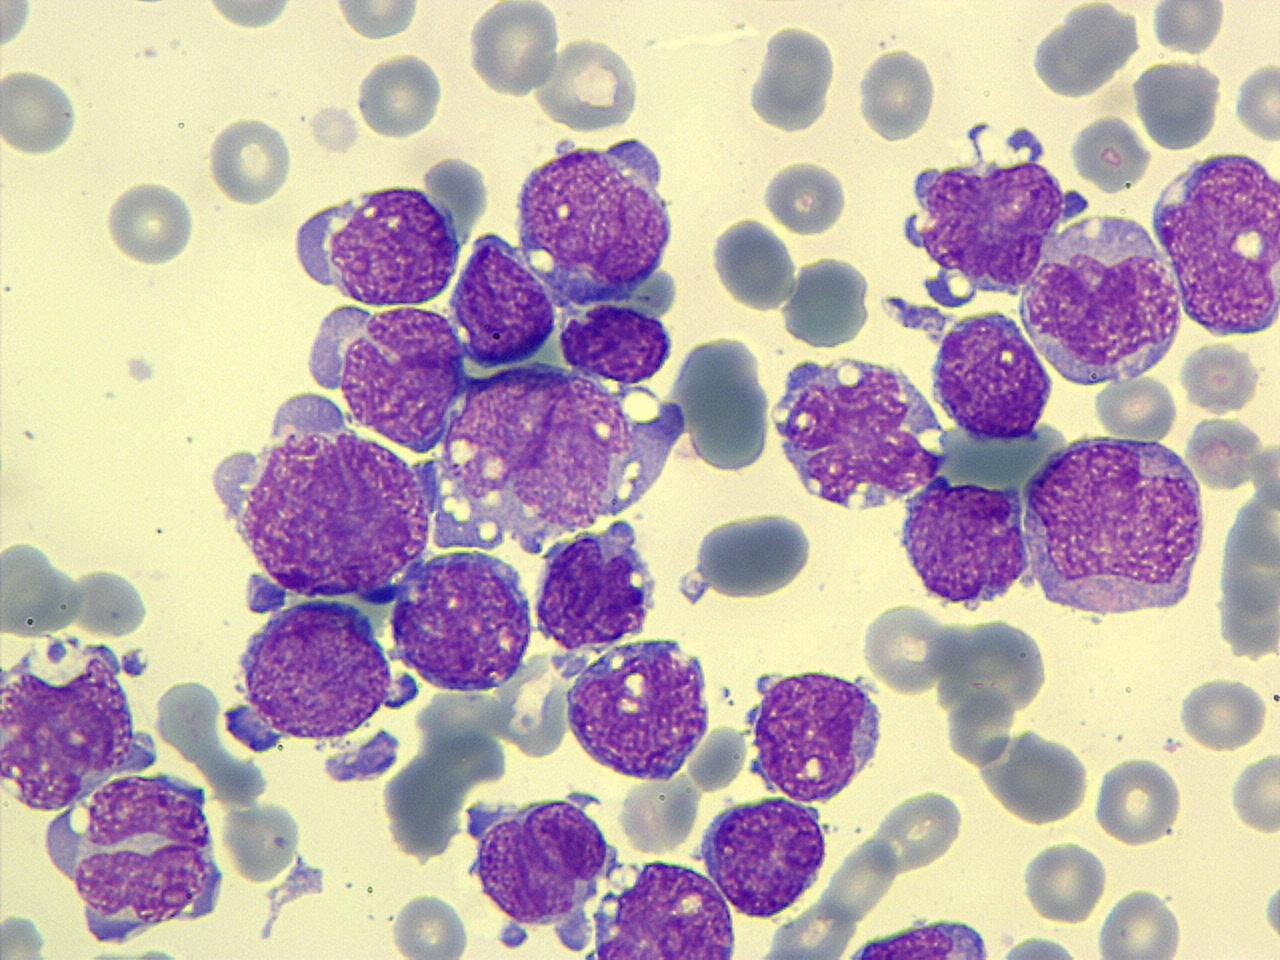Platelets: (1261, 876, 1280, 948)
RBC: (0, 0, 476, 294), (383, 547, 536, 695), (672, 333, 777, 476), (688, 504, 814, 602), (747, 20, 839, 134), (536, 34, 640, 134), (780, 248, 874, 354), (467, 0, 562, 101), (706, 215, 800, 313), (100, 177, 198, 270), (854, 42, 940, 146), (1091, 752, 1183, 849), (1131, 55, 1223, 153), (860, 598, 949, 694), (353, 50, 444, 143), (206, 113, 294, 208), (1020, 836, 1109, 927), (218, 794, 305, 885), (0, 537, 78, 640), (1, 63, 82, 159), (1175, 674, 1273, 752), (761, 154, 853, 238), (1094, 885, 1186, 958), (1092, 374, 1182, 444), (389, 888, 471, 960), (1227, 750, 1279, 838), (1230, 56, 1280, 147), (1149, 1, 1229, 56), (329, 0, 426, 42), (199, 0, 301, 33), (0, 909, 49, 959), (0, 1, 36, 56)
WBC: (170, 37, 716, 808), (204, 386, 432, 610), (1016, 430, 1211, 622), (897, 119, 1076, 308), (43, 766, 229, 947), (764, 346, 948, 516), (0, 628, 167, 813), (1017, 211, 1187, 390), (507, 125, 684, 296), (216, 594, 399, 752), (1147, 142, 1280, 339), (459, 782, 618, 942), (305, 301, 473, 451), (291, 177, 470, 310), (562, 632, 716, 781), (388, 547, 536, 694), (742, 662, 889, 805), (898, 472, 1041, 612), (928, 305, 1058, 443), (694, 790, 833, 918), (530, 520, 658, 652), (668, 329, 774, 473), (1026, 0, 1144, 101), (691, 506, 816, 601), (823, 918, 1007, 960)
